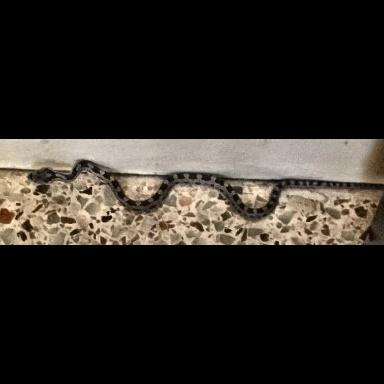snake: (25, 151, 384, 227)
